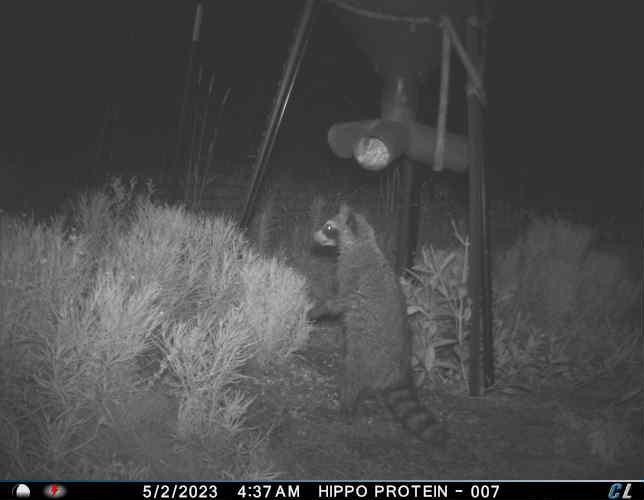Raccoon: (304, 196, 455, 451)
